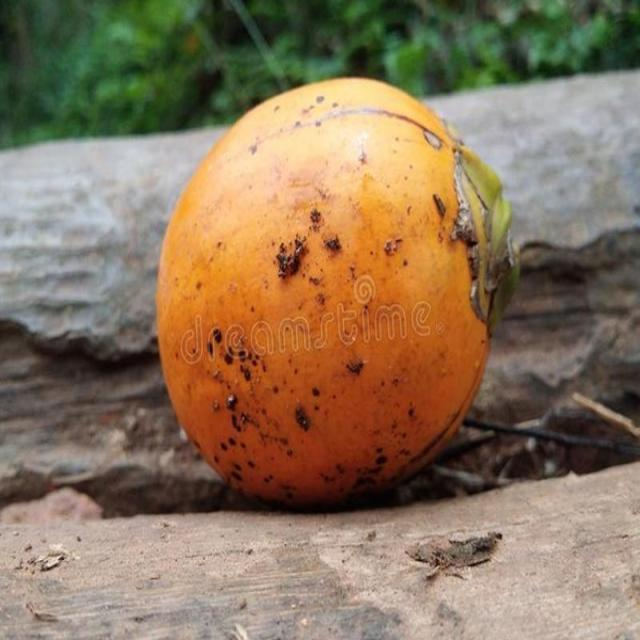good: (155, 77, 518, 513)
